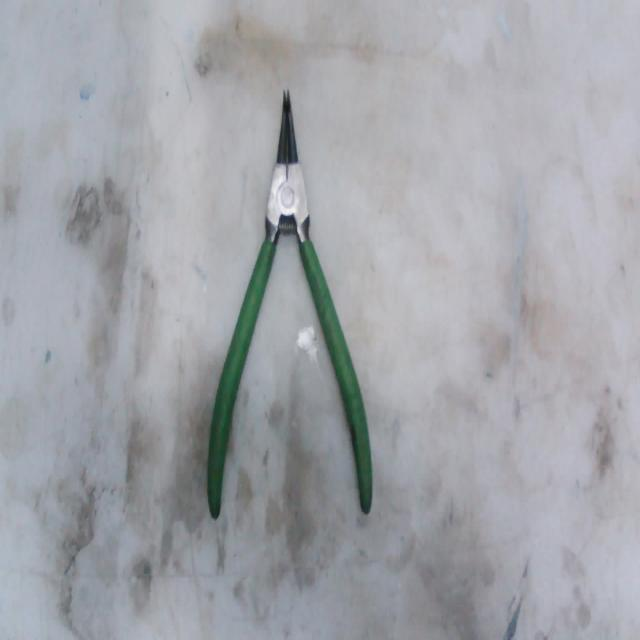tang_scun_hidrolik: (181, 71, 414, 568)
